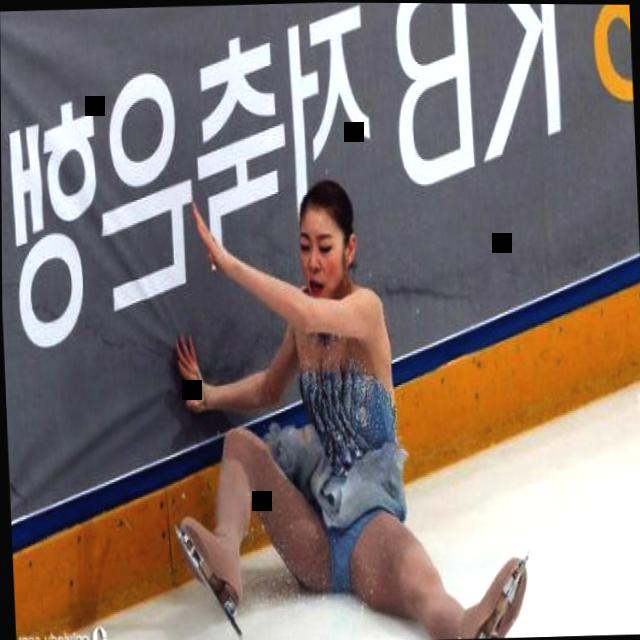Fall-Detected: (140, 149, 533, 640)
